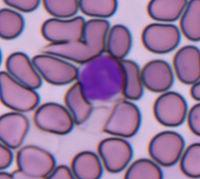L: (80, 54, 123, 102)
